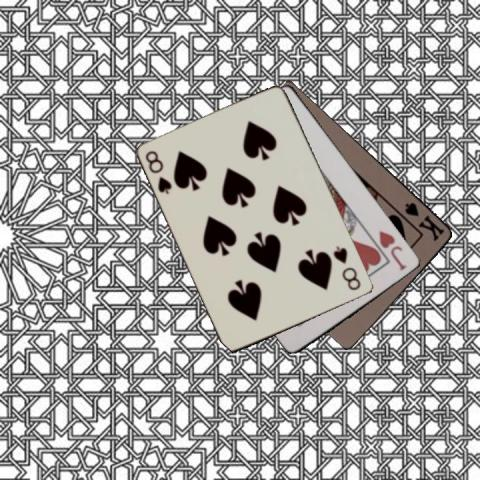8s: (330, 243, 362, 292), (143, 147, 174, 196)
Jh: (376, 227, 409, 272)
Ks: (402, 198, 447, 242)
